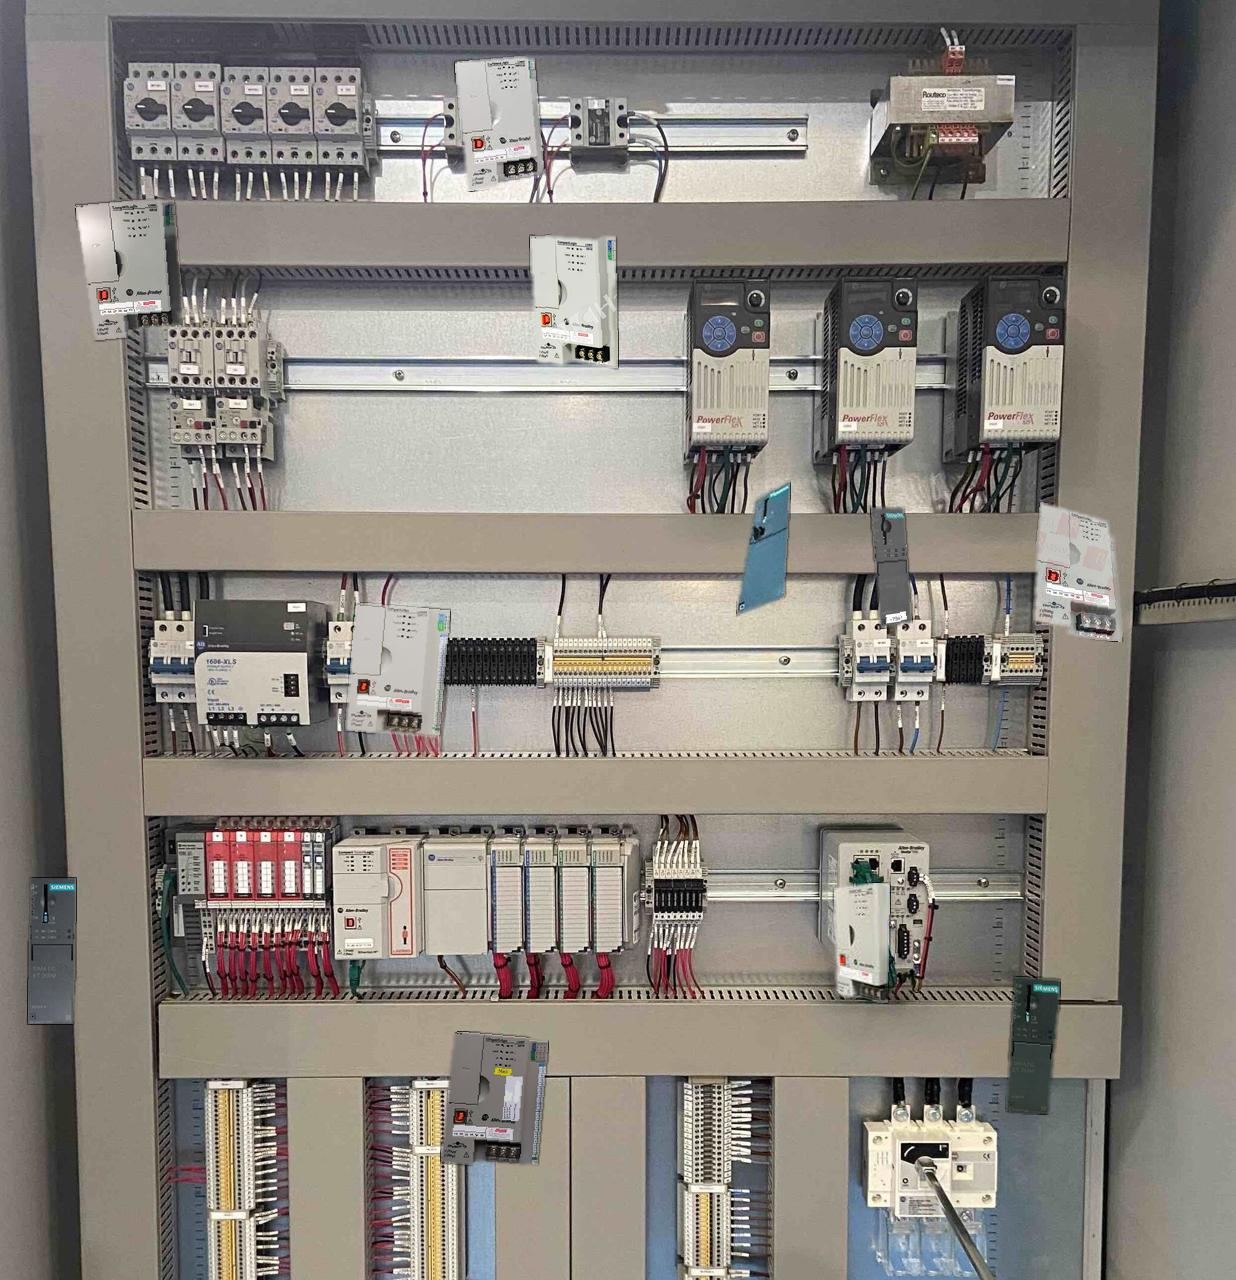AllenBradley: (75, 199, 182, 339), (440, 1031, 547, 1163), (346, 603, 449, 736), (1034, 502, 1121, 641), (455, 57, 544, 190), (530, 235, 617, 367), (834, 883, 889, 1002)
Siemens: (736, 481, 790, 614)
